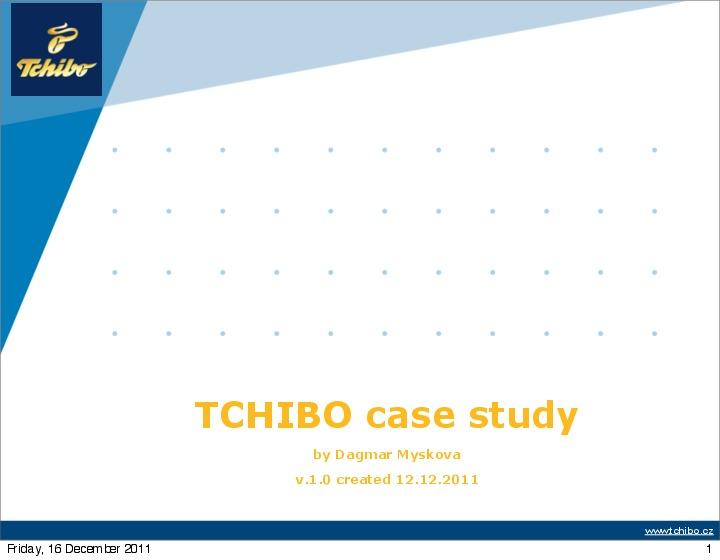title: (186, 375, 597, 446)
